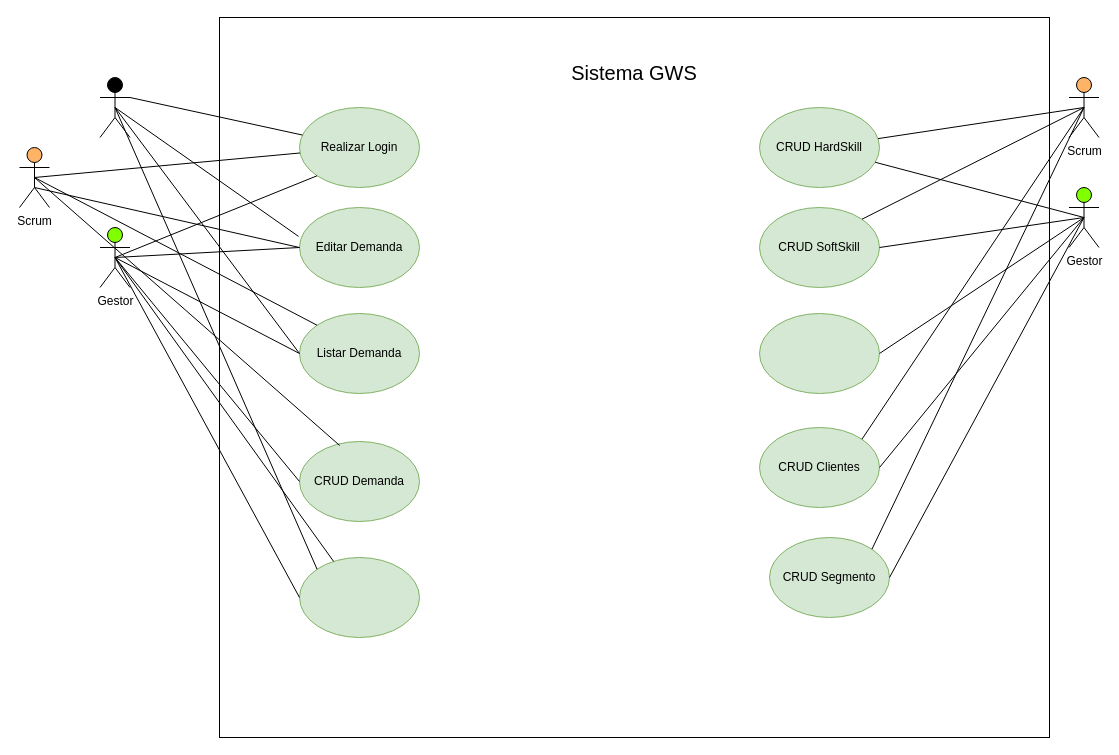
Some shapes in this 1119 by 755 pixel diagram are drawn without their labels. Each missing label, with the centre of its shape:
"Consultor" belongs at [114,107].
"CRUD Membros" belongs at [819,353].
"Realizar Logoff" belongs at [359,597].
